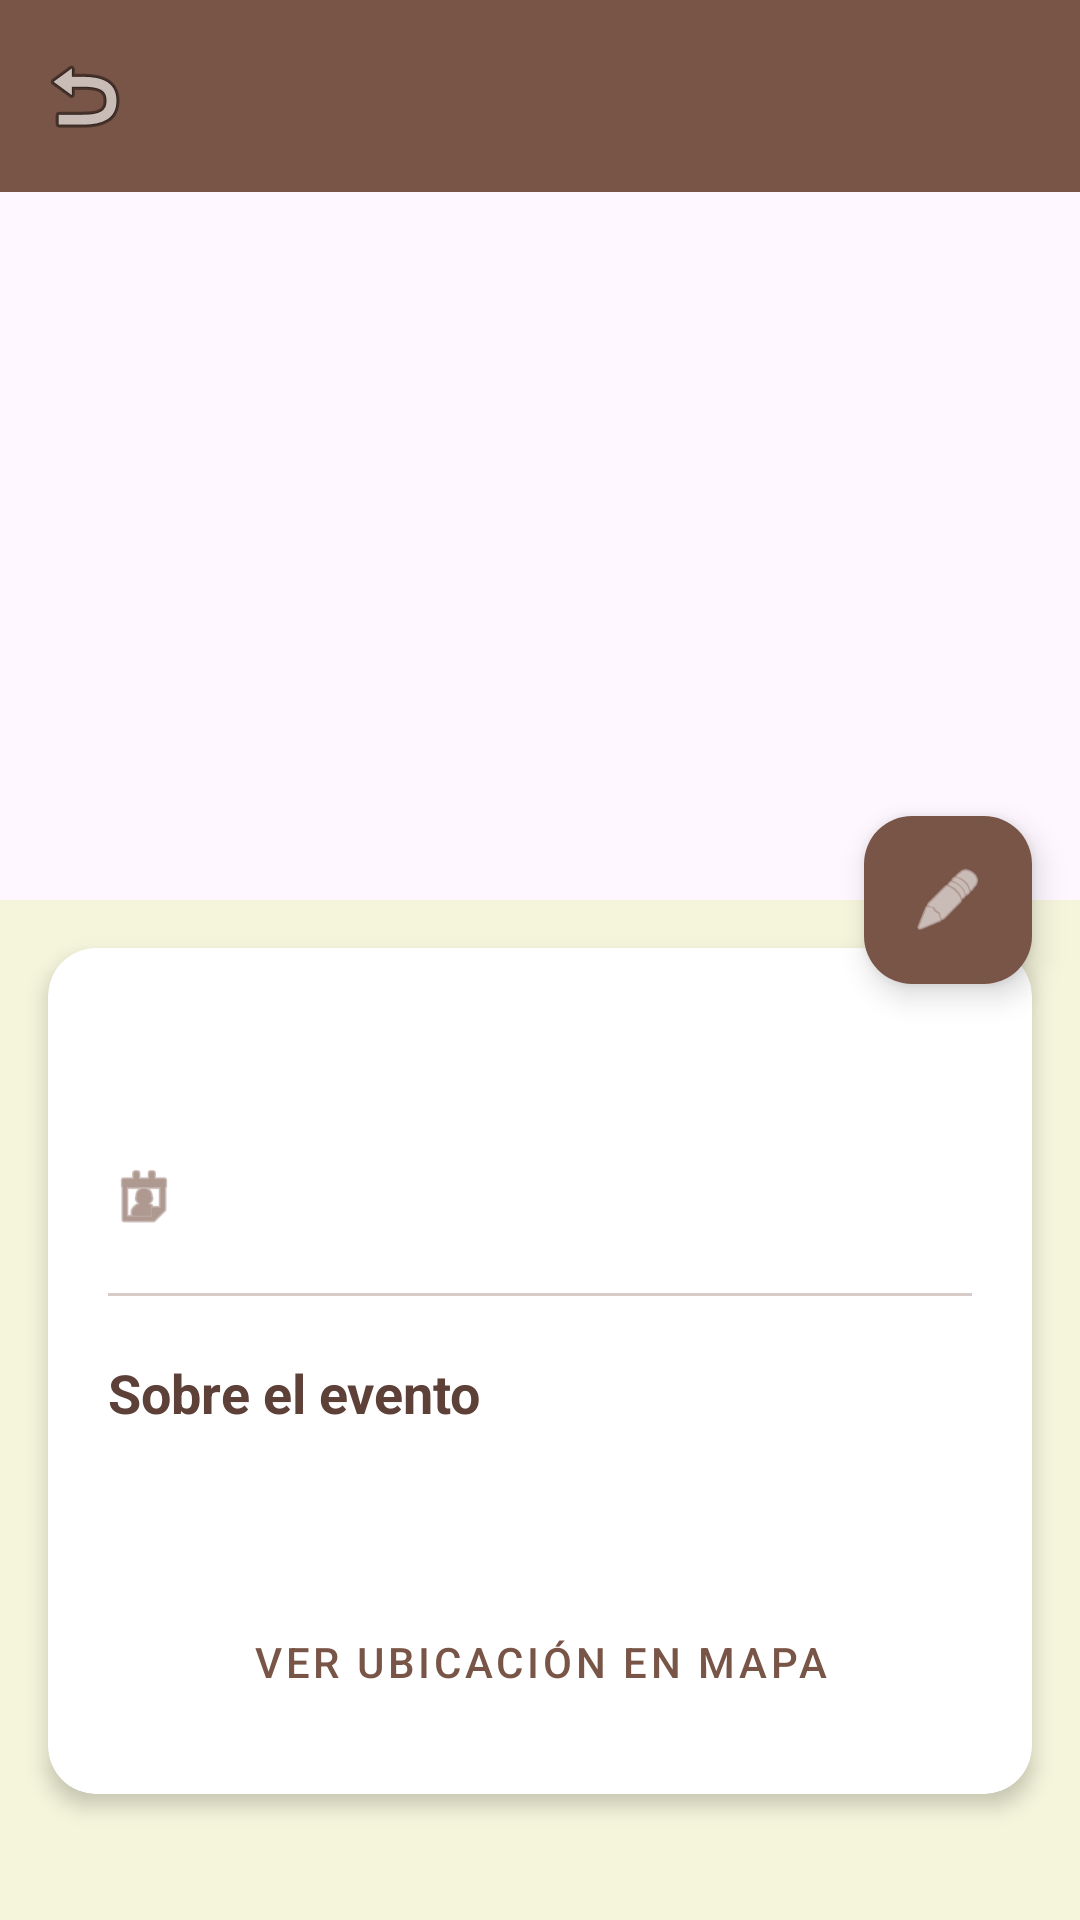

Where icons sit on this 1080×1920 app screen, as [x1=x1, y1=y1, x2=x2, y2=y2]:
calendar: [x1=121, y1=1170, x2=167, y2=1223]
Editar evento: [x1=864, y1=816, x2=1032, y2=984]
